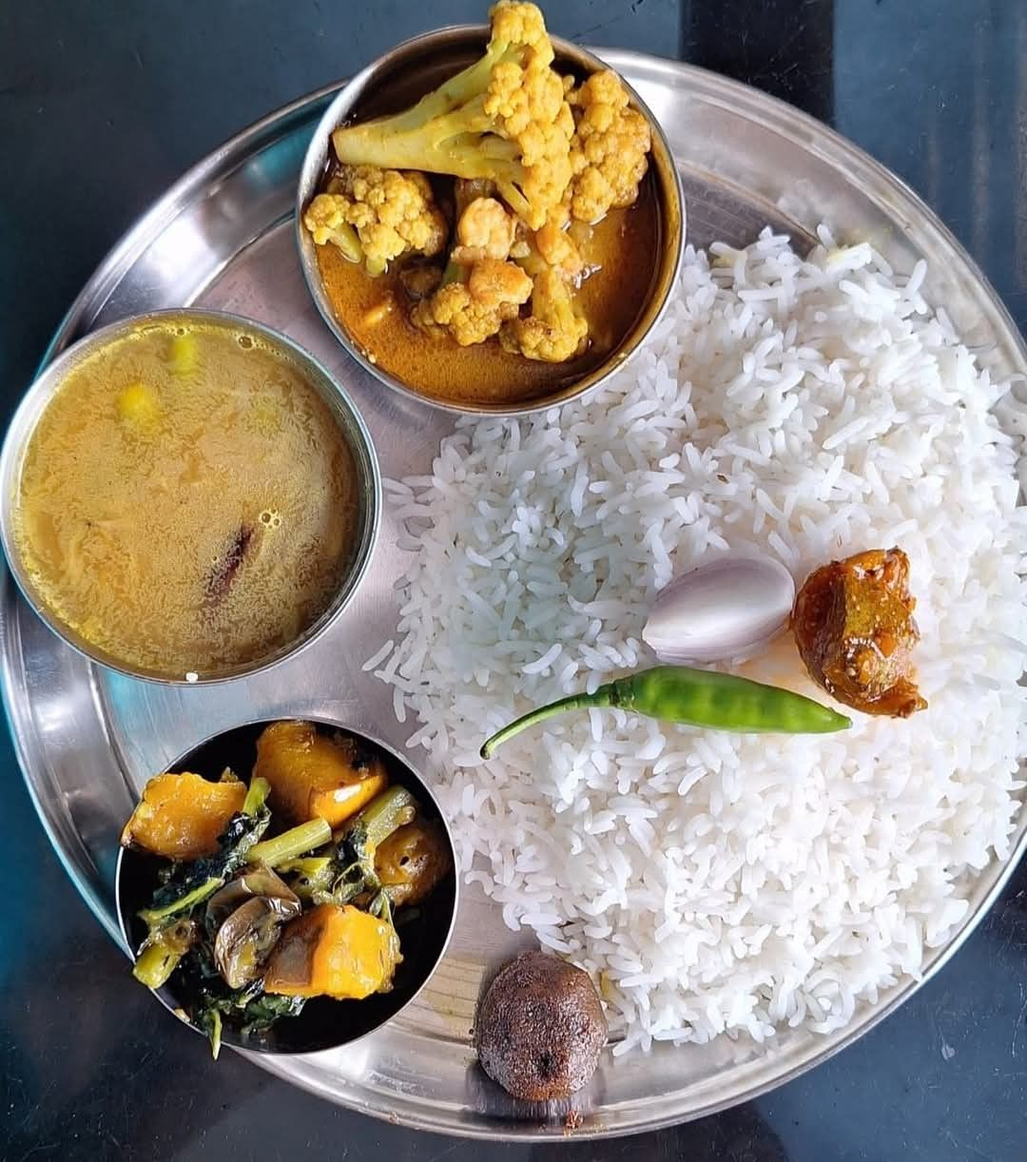bhat: (416, 234, 1019, 1034)
dal: (11, 334, 358, 676)
sabji: (319, 78, 653, 395), (137, 735, 423, 1030)
